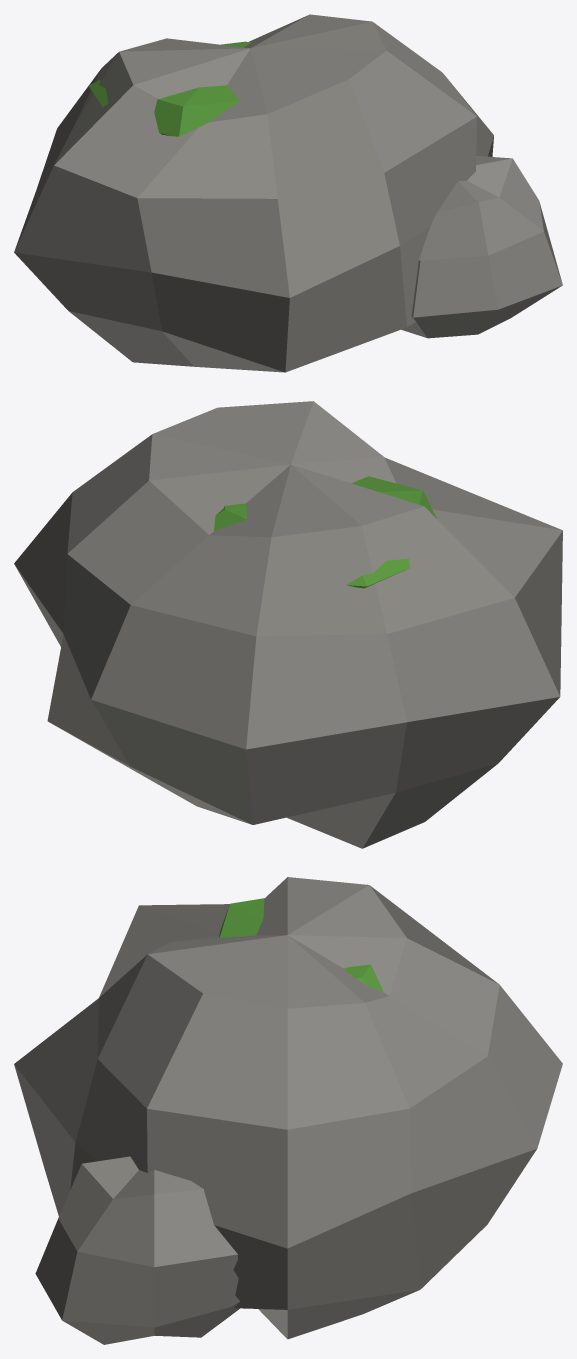
File: prop_rock.glb
The picture shows the model from 3 angles, top to bottom: view 1: azimuth 30°, elevation 25°; view 2: azimuth 150°, elevation 25°; view 3: azimuth 270°, elevation 25°; orthographic projection. The views are drawn at different scales.
Parts seen in each view (by area): view 1: prop_rock_mesh; view 2: prop_rock_mesh; view 3: prop_rock_mesh.
Boxes of the visible parts, box(x1,y1,x2,y2) form: prop_rock_mesh: box(14, 14, 562, 372); prop_rock_mesh: box(14, 401, 562, 848); prop_rock_mesh: box(14, 877, 562, 1344).
Bounding box in the file's own units: 0.8865 × 0.5141 × 0.7424.
1 material, 1 textured.
